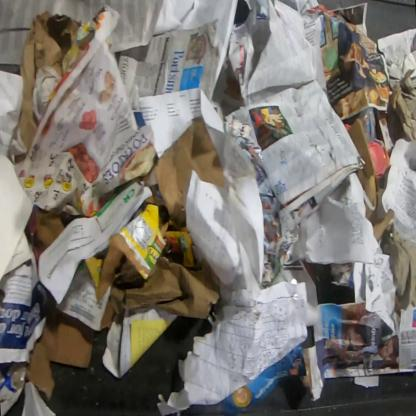cardboard: (84, 195, 195, 305), (15, 10, 81, 164), (154, 115, 224, 228), (26, 298, 96, 405), (109, 254, 221, 320), (347, 118, 395, 242), (390, 74, 415, 141), (0, 361, 28, 415), (34, 208, 65, 249)
rigid_plastic: (368, 142, 390, 180)
soft_plastic: (358, 107, 376, 144)
